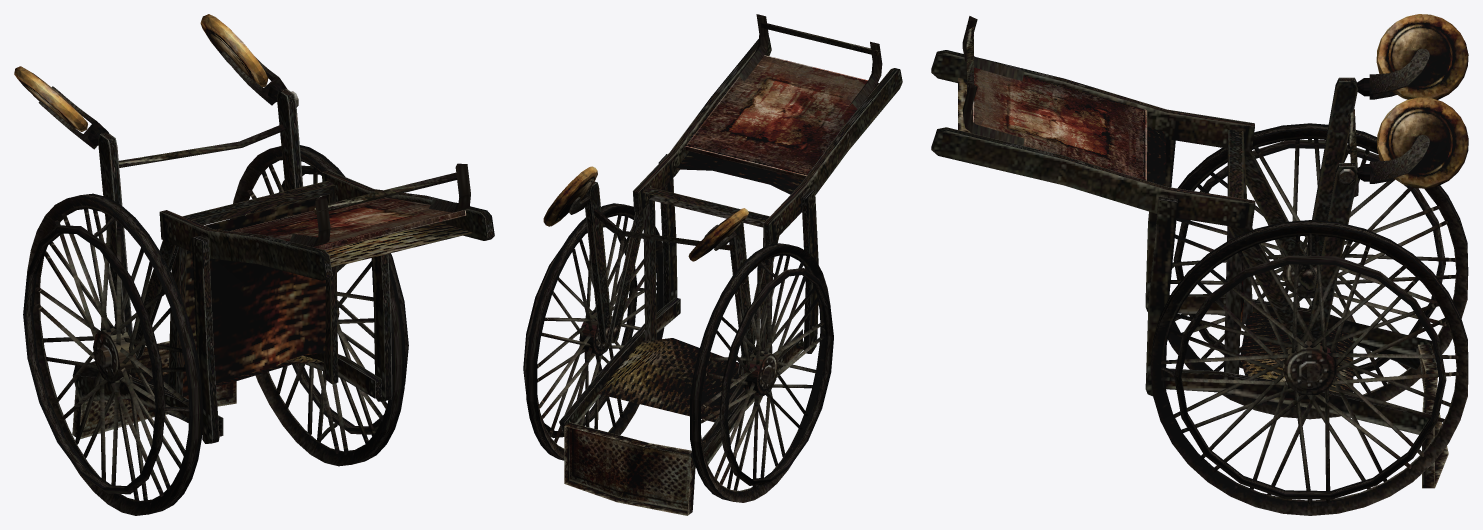
Rendered from wheelchair.dae.
3 renders of one model, left to right at view 1: azimuth 30°, elevation 25°; view 2: azimuth 150°, elevation 25°; view 3: azimuth 270°, elevation 25°, orthographic. The views are drawn at different scales.
Visible parts, largest first — view 1: wheelchair; view 2: wheelchair; view 3: wheelchair.
Part boxes in pixels (x1=…): wheelchair: x1=14, y1=14, x2=494, y2=515; wheelchair: x1=523, y1=14, x2=902, y2=515; wheelchair: x1=931, y1=14, x2=1468, y2=515.
Size of the model in its own units: 3.22 by 5.83 by 4.94.
1 material, 1 textured.
